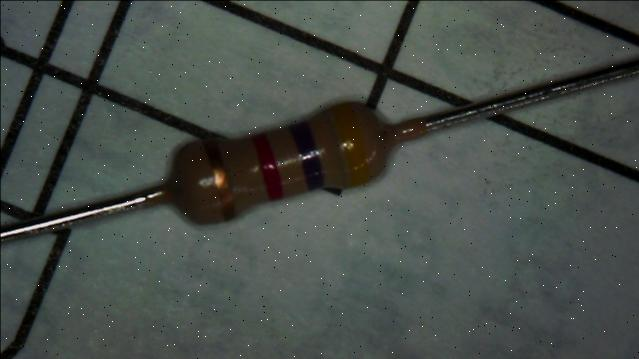gold: (205, 140, 233, 218)
red: (251, 134, 283, 200)
resistor: (139, 69, 420, 247)
violet: (290, 122, 324, 190)
yellow: (334, 103, 369, 185)
